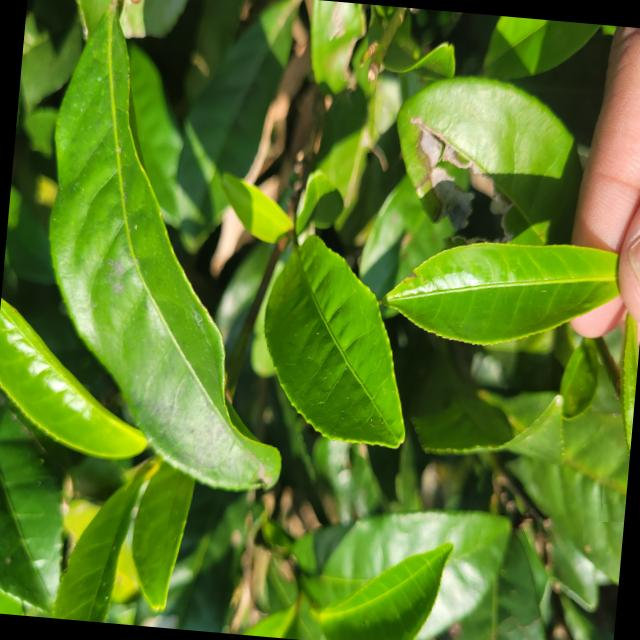Catagory A(1-2 days): (595, 299, 640, 522)
